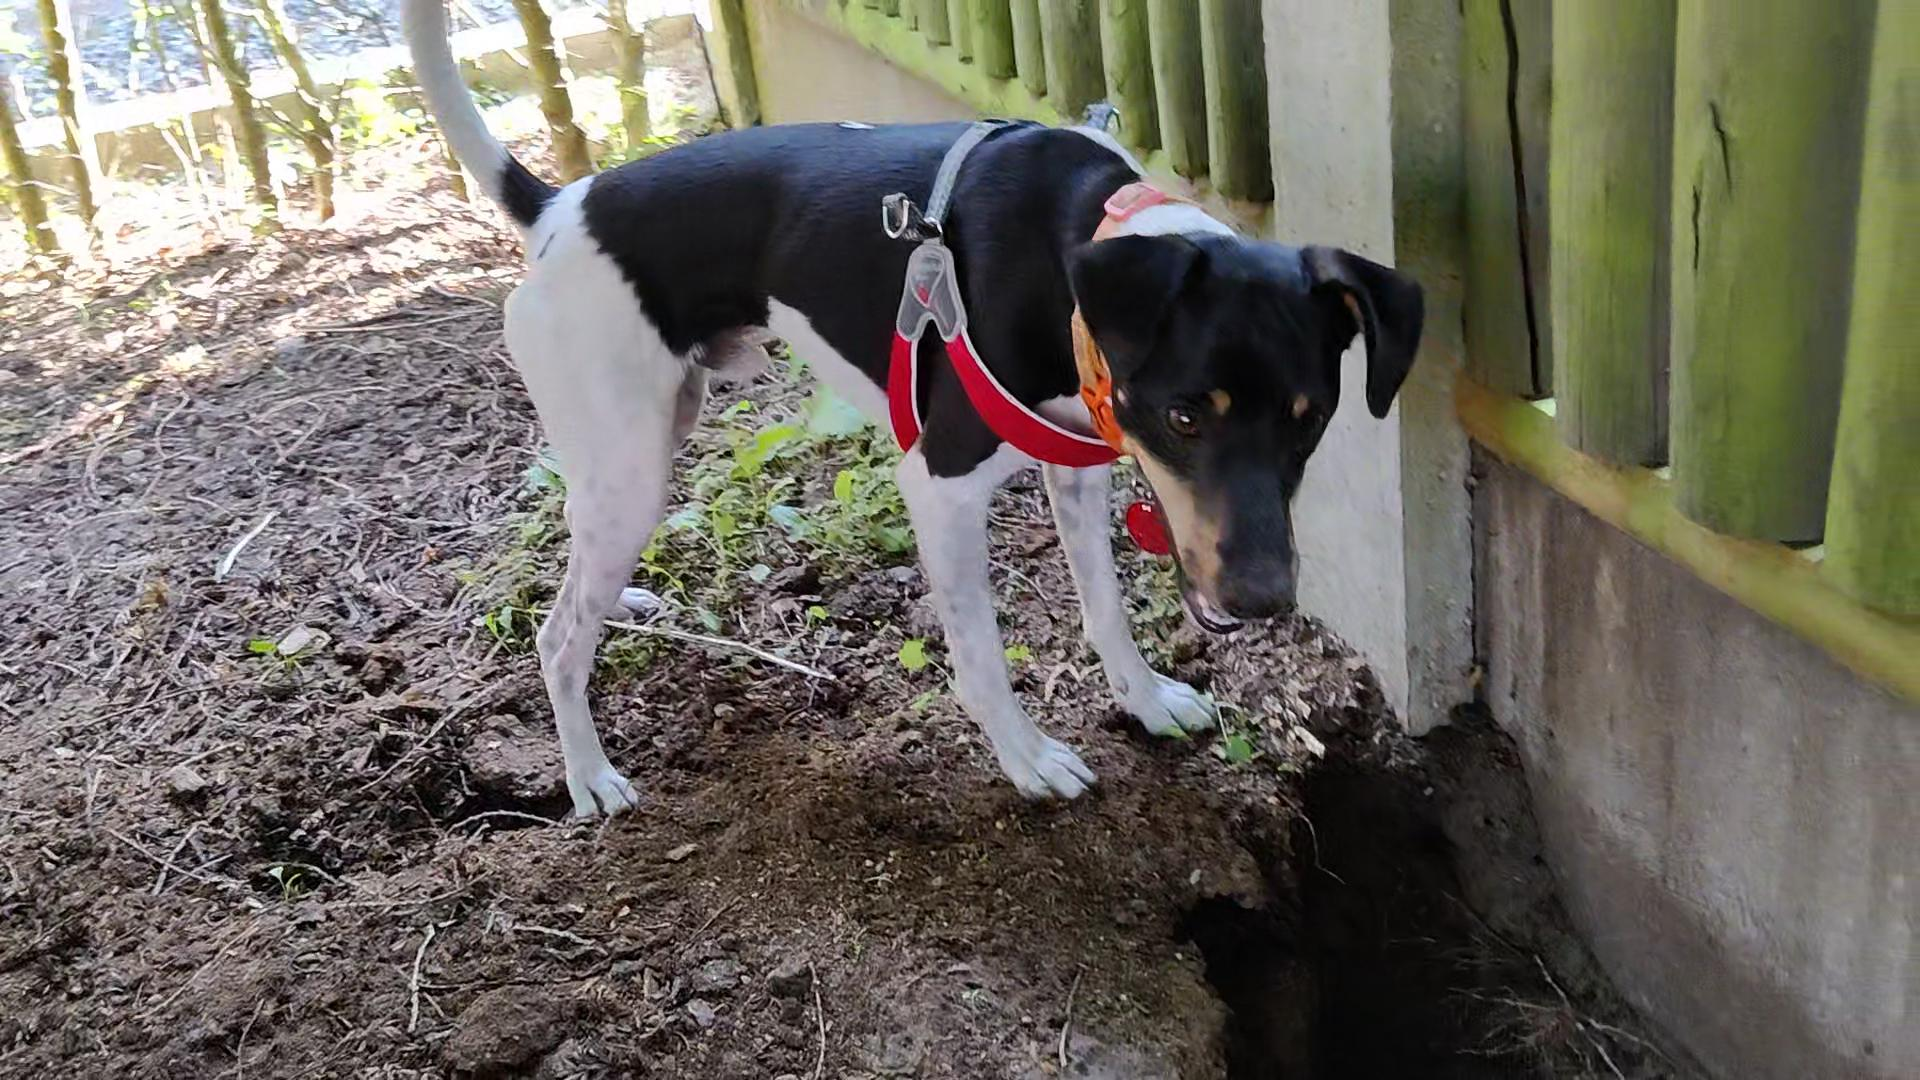Dog: (367, 0, 1460, 845)
